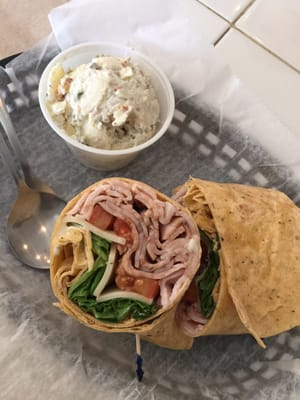soup: (172, 177, 300, 350)
sushi: (38, 42, 176, 170)
